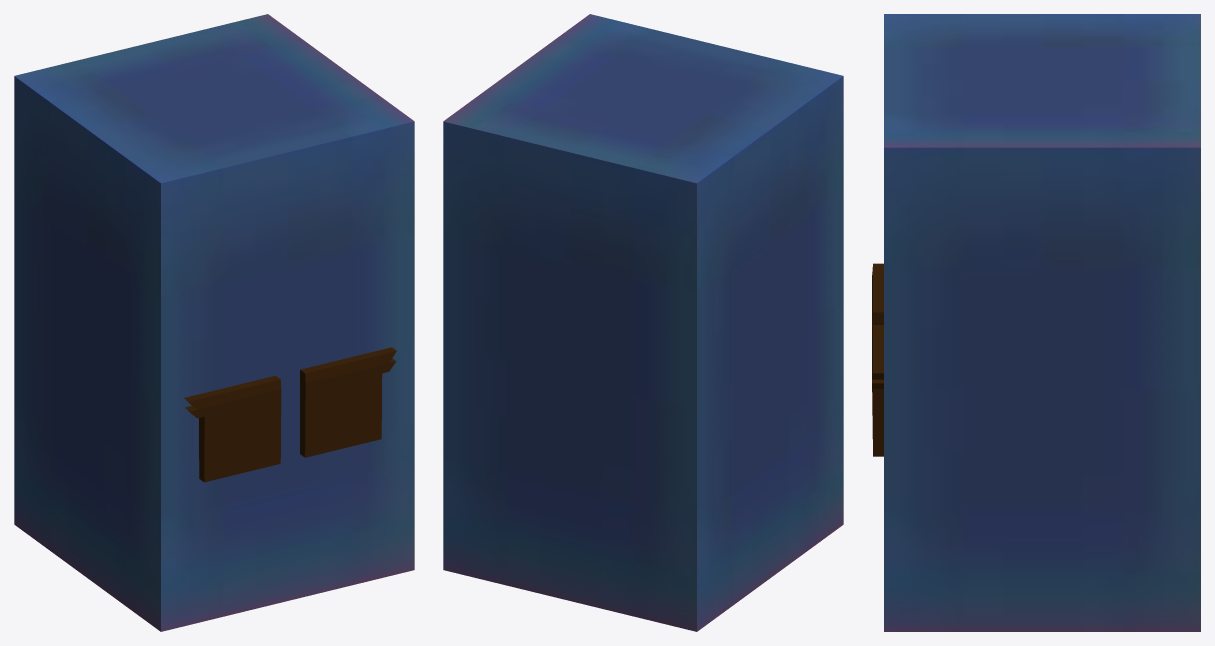
The model's file is musketeer.fbx.
3 views of the same model, side by side, from view 1: azimuth 30°, elevation 25°; view 2: azimuth 150°, elevation 25°; view 3: azimuth 270°, elevation 25° (orthographic). The views are drawn at different scales.
Parts seen in each view (by area): view 1: musketeer, musketeer_eyes; view 2: musketeer; view 3: musketeer, musketeer_eyes.
Boxes of the visible parts, <box> form: musketeer: <box>14,14,414,631</box>; musketeer_eyes: <box>184,347,396,482</box>; musketeer: <box>443,14,843,631</box>; musketeer: <box>884,14,1200,631</box>; musketeer_eyes: <box>872,263,883,456</box>.
Size of the model in its own units: 53.29 by 90 by 55.41.
Materials: 2 (1 with a texture image).
